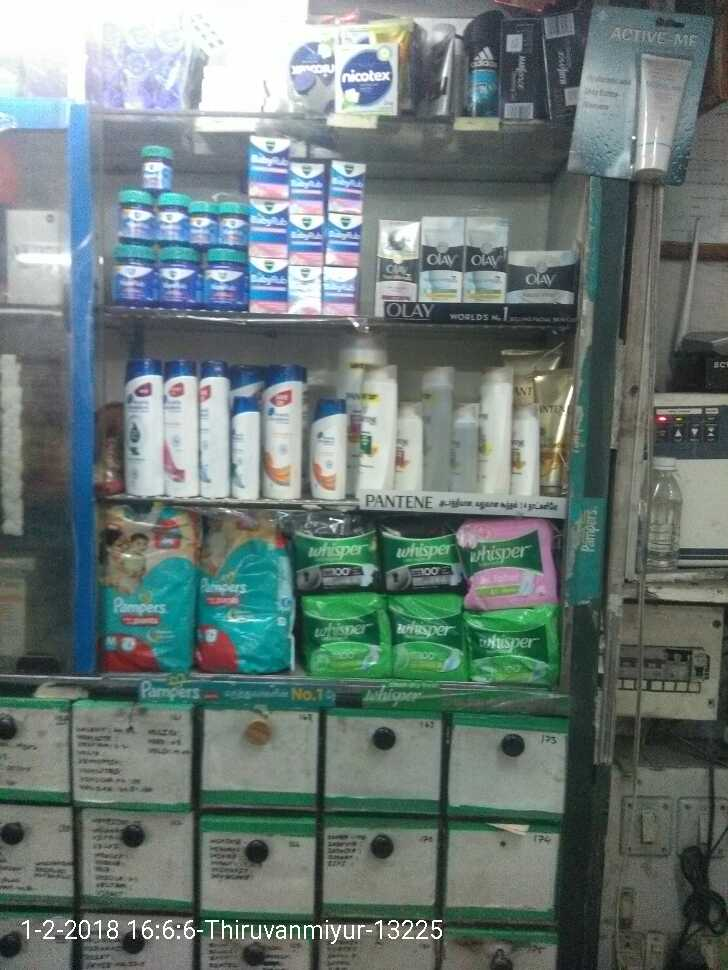vicks: (111, 143, 241, 321), (252, 131, 359, 318)
